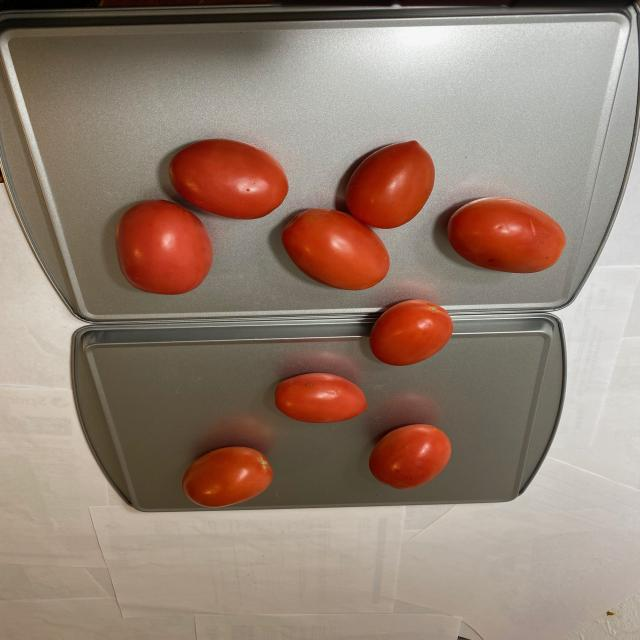tomato: (108, 134, 570, 369), (182, 373, 454, 508)
